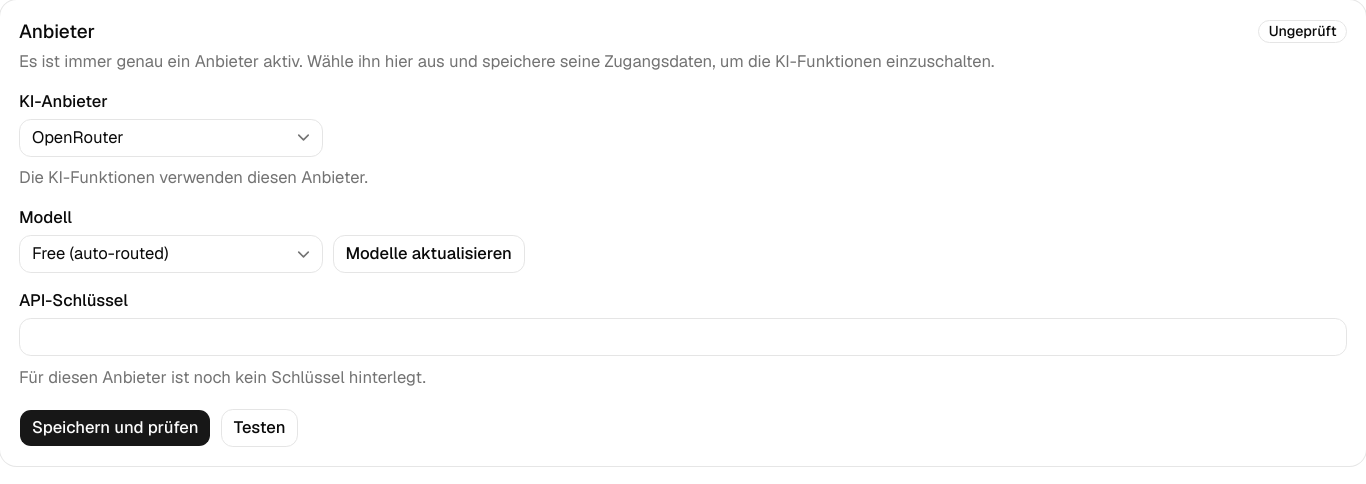
Test case: <ProviderSection> › OpenRouter's refresh-models control › replaces the static fallback with the fetched catalog on success
Click the button "Modelle aktualisieren" at point(429, 254), box [332,235,525,273]
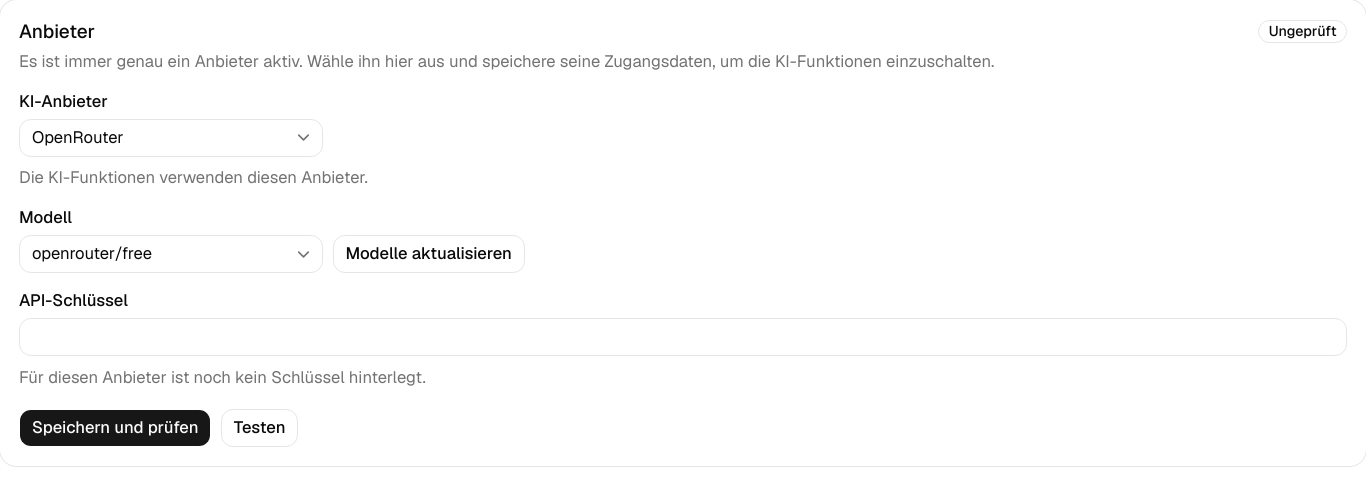
Click the dropdown with id "ai-model" at point(92, 253), box [19,235,323,273]
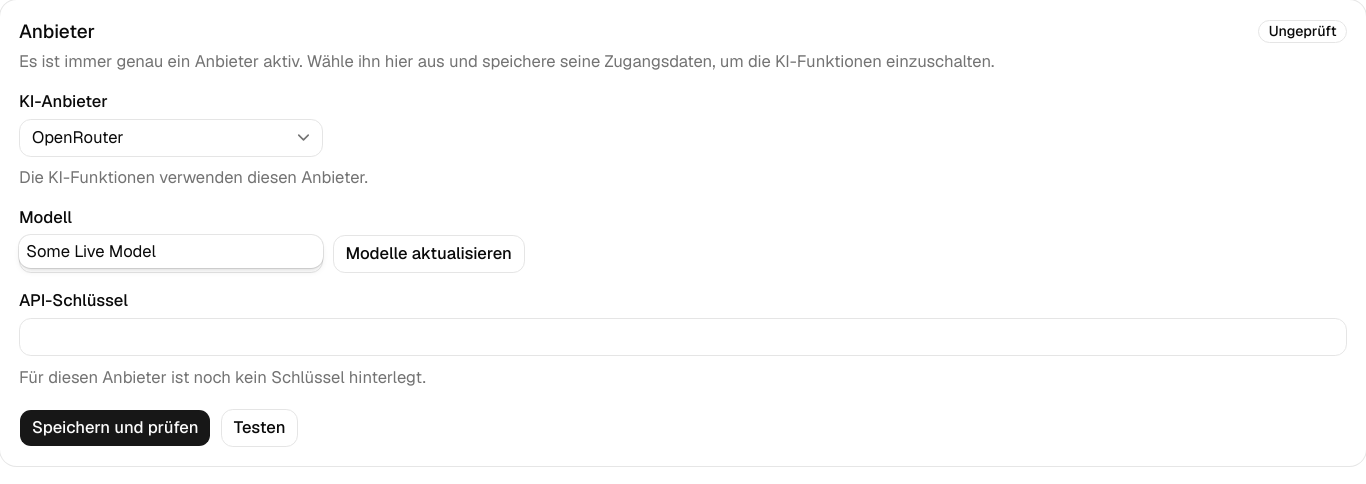
Click the option "Some Live Model" at point(91, 251), box [26,240,156,262]
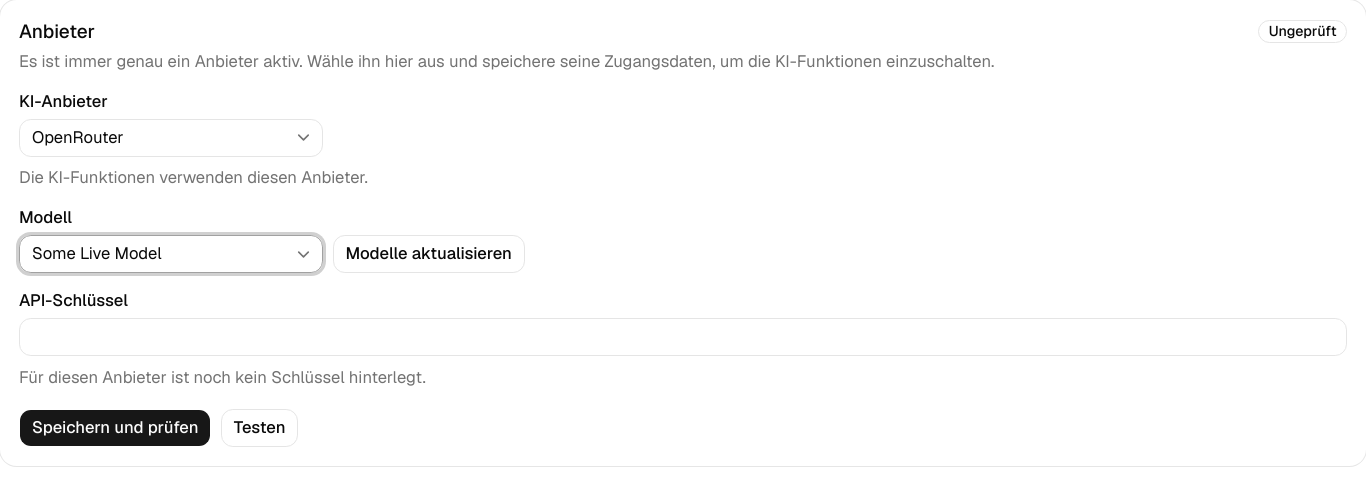
Expected: the text "Some Live Model" is shown, [32,242,162,264]
